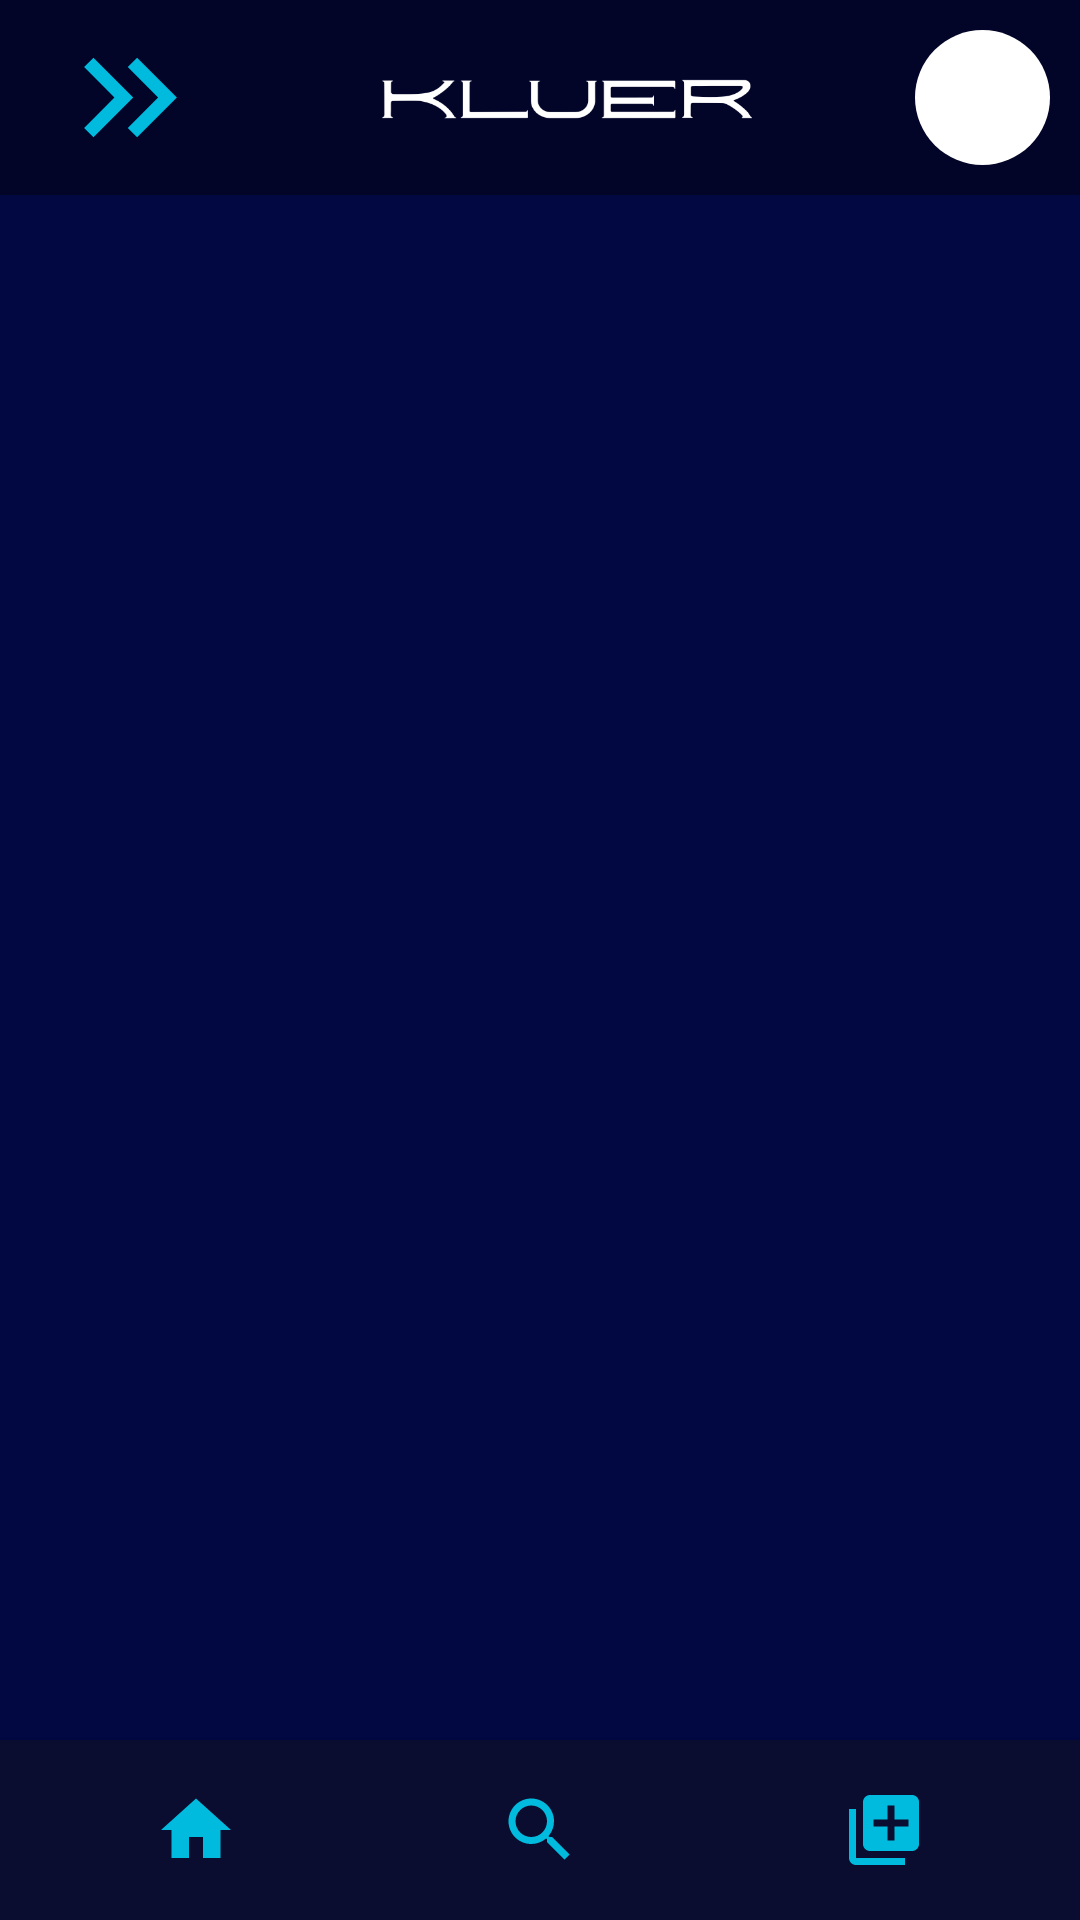

Screen size 1080px×1920px. Icon name, then its box in pixels as box=[x1, y1, x2, y2]:
Home: box=[161, 1798, 231, 1858]
Insert: box=[849, 1795, 919, 1865]
Search: box=[508, 1798, 570, 1860]
